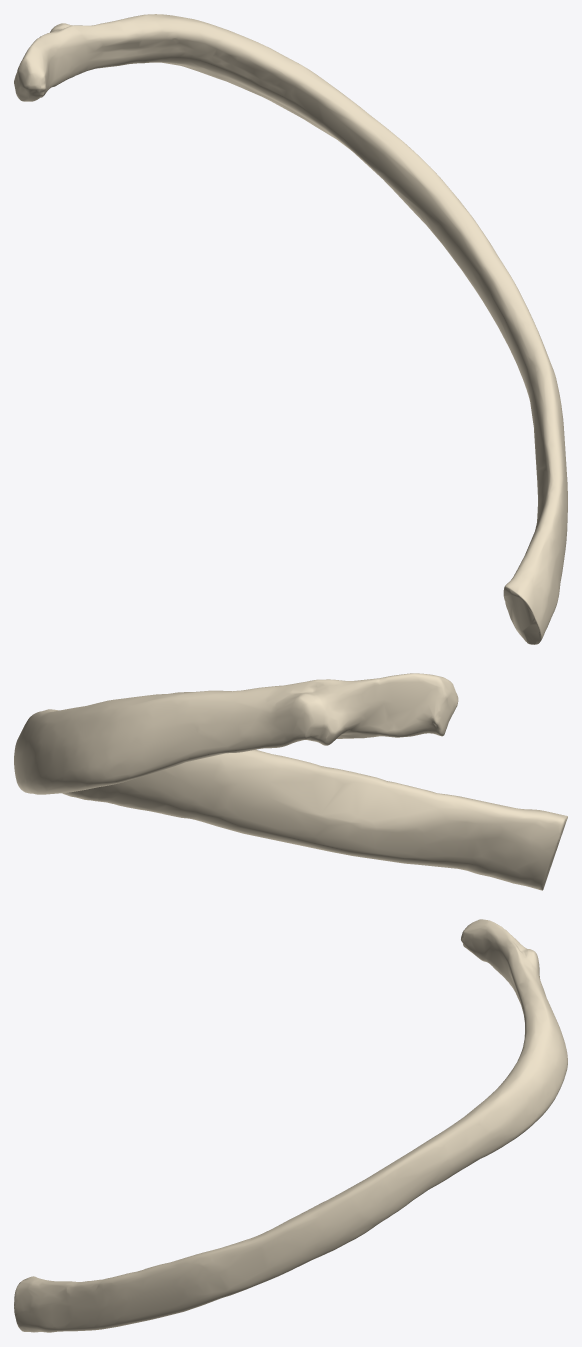
The model's file is fifth-rib-l.glb.
The picture shows the model from 3 angles, top to bottom: view 1: azimuth 30°, elevation 25°; view 2: azimuth 150°, elevation 25°; view 3: azimuth 270°, elevation 25°; orthographic projection. The views are drawn at different scales.
Parts seen in each view (by area): view 1: Fifth rib.l; view 2: Fifth rib.l; view 3: Fifth rib.l.
Boxes of the visible parts, x1,y1,x2,y2 form: Fifth rib.l: (14, 14, 567, 644); Fifth rib.l: (14, 673, 567, 890); Fifth rib.l: (14, 919, 567, 1332).
Size of the model in its own units: 0.1158 by 0.126 by 0.1893.
